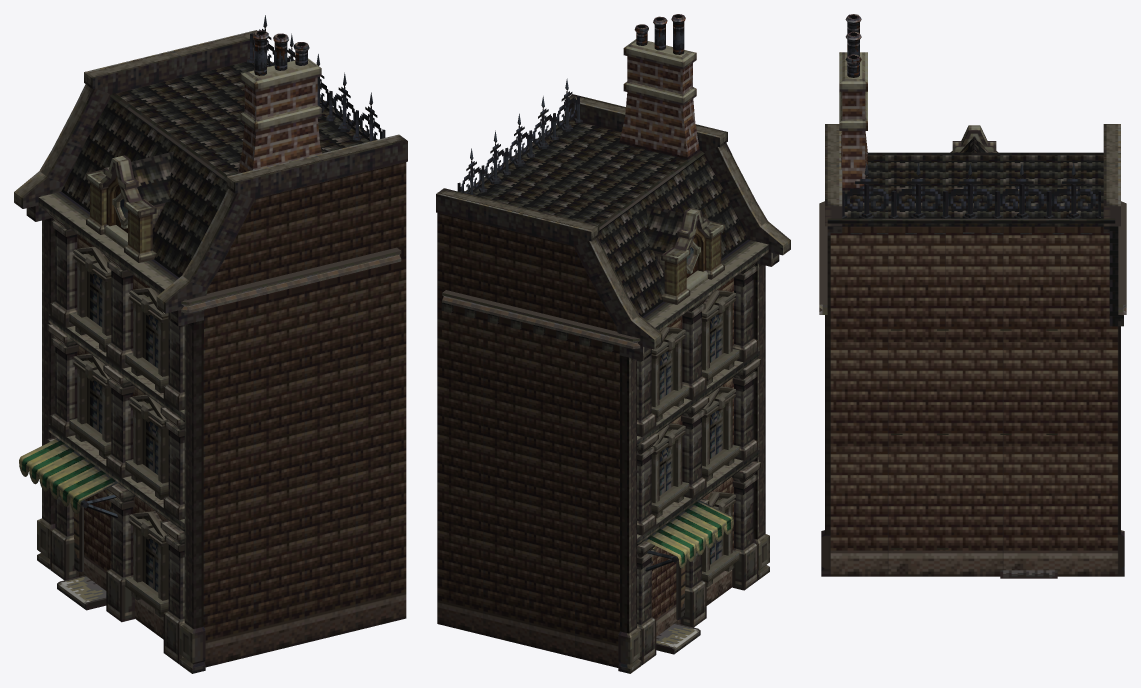
The model's file is EnvBdgMD_City_B_Outdoor_L_C_Redwall_A.FBX.
The picture shows the model from 3 angles, left to right: view 1: azimuth 30°, elevation 25°; view 2: azimuth 150°, elevation 25°; view 3: azimuth 270°, elevation 25°; orthographic projection. The views are drawn at different scales.
Parts seen in each view (by area): view 1: EnvBdgMD_City_B_Outdoor_L_C_Redwall_A; view 2: EnvBdgMD_City_B_Outdoor_L_C_Redwall_A; view 3: EnvBdgMD_City_B_Outdoor_L_C_Redwall_A.
Part boxes in pixels (x1=…): EnvBdgMD_City_B_Outdoor_L_C_Redwall_A: x1=14, y1=15, x2=407, y2=673; EnvBdgMD_City_B_Outdoor_L_C_Redwall_A: x1=436, y1=14, x2=790, y2=673; EnvBdgMD_City_B_Outdoor_L_C_Redwall_A: x1=819, y1=14, x2=1126, y2=578.
Size of the model in its own units: 498 by 1140 by 535.
1 material, 1 textured.
